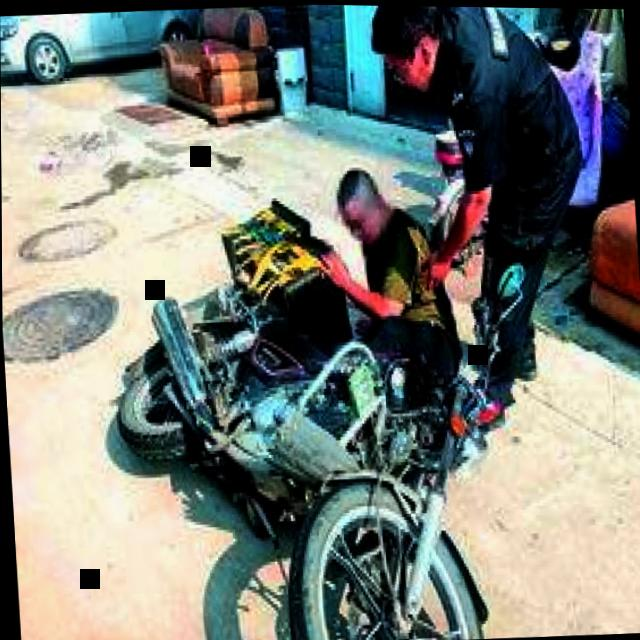Fall-Detected: (300, 132, 488, 451)
